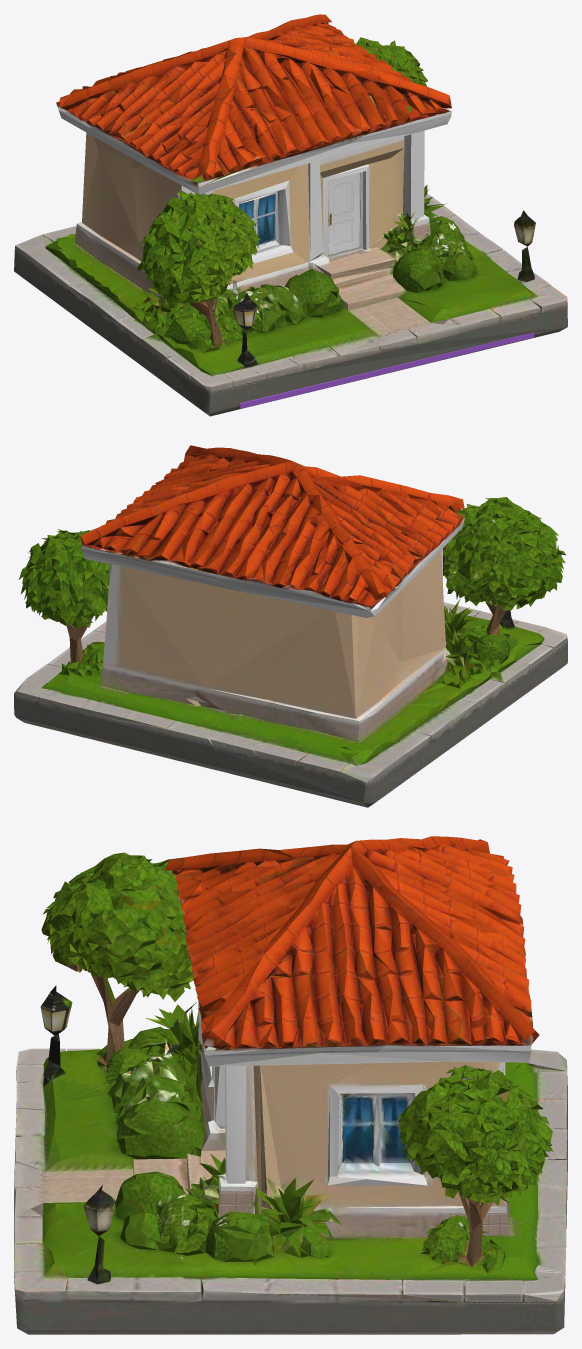
File: property-level-1-meshy-v1.glb
3 views of the same model, one above another, from view 1: azimuth 30°, elevation 25°; view 2: azimuth 150°, elevation 25°; view 3: azimuth 270°, elevation 25° (orthographic). The views are drawn at different scales.
Visible parts, largest first — view 1: PROPERTY_LEVEL_1; view 2: PROPERTY_LEVEL_1; view 3: PROPERTY_LEVEL_1.
Boxes of the visible parts, <box> form: PROPERTY_LEVEL_1: <box>14,14,567,416</box>; PROPERTY_LEVEL_1: <box>14,445,567,807</box>; PROPERTY_LEVEL_1: <box>14,836,567,1334</box>.
Size of the model in its own units: 1 by 0.6109 by 0.862.
2 materials, 1 textured.
